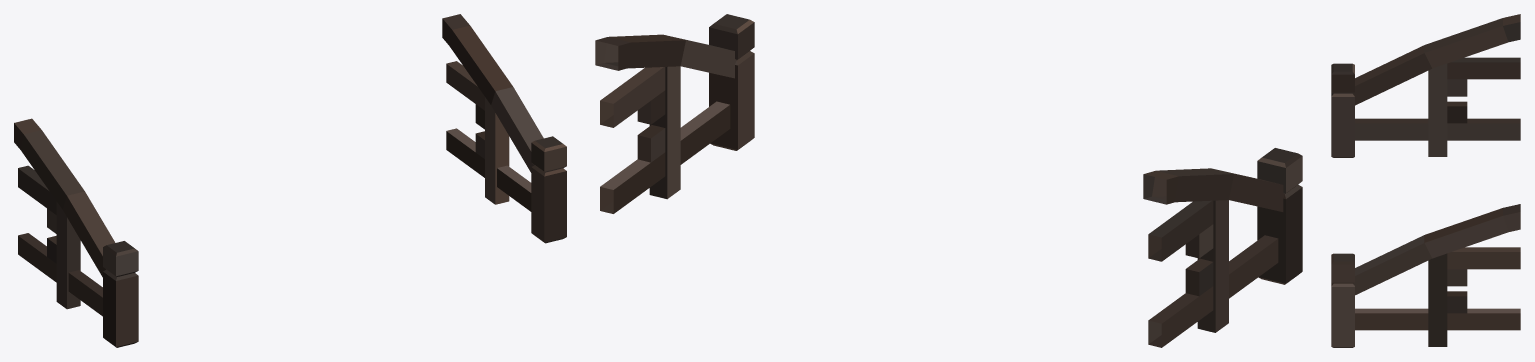
Rendered from Bridge-End.fbx.
3 views of the same model, side by side, from view 1: azimuth 30°, elevation 25°; view 2: azimuth 150°, elevation 25°; view 3: azimuth 270°, elevation 25° (orthographic). The views are drawn at different scales.
Visible parts, largest first — view 1: Bridge-End; view 2: Bridge-End; view 3: Bridge-End.
Part boxes in pixels (x1,y1,x2,y2): Bridge-End: [14, 14, 566, 347]; Bridge-End: [595, 14, 1302, 347]; Bridge-End: [1331, 14, 1520, 347].
Bounding box in the file's own units: 500 × 159 × 200.
